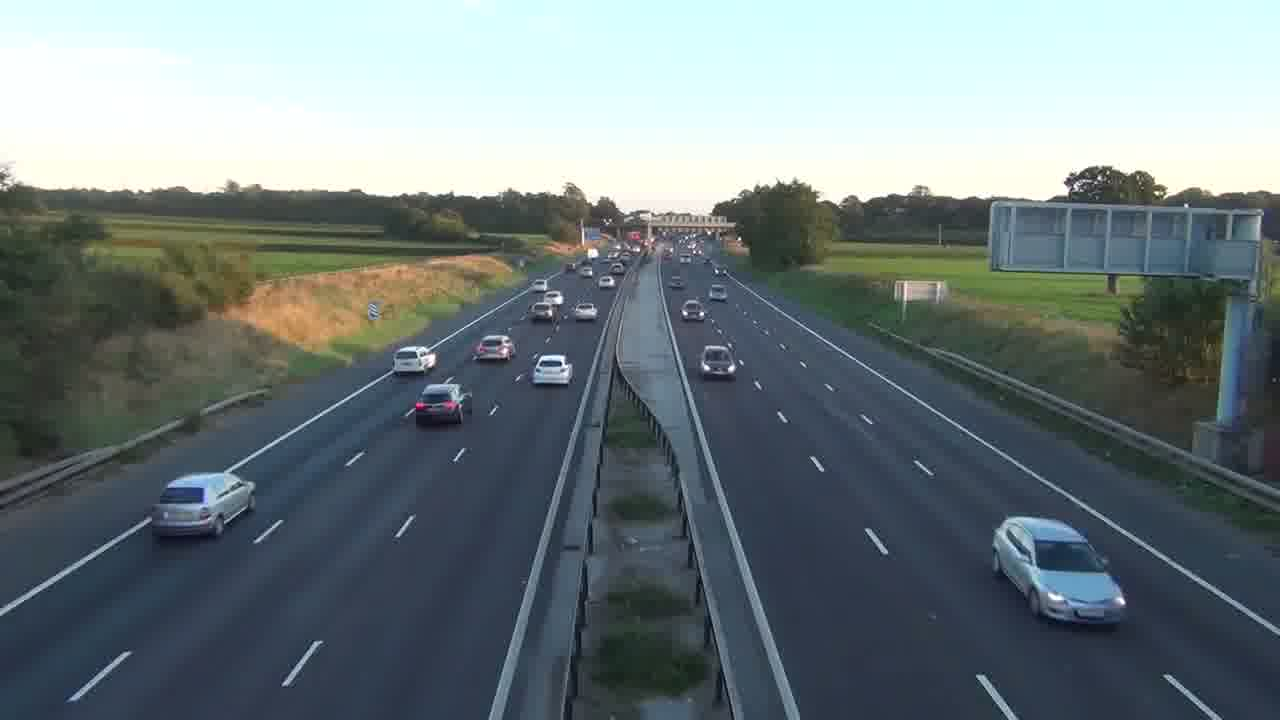car: (991, 515, 1127, 628), (150, 471, 256, 540), (414, 382, 469, 425), (531, 352, 572, 387), (392, 345, 438, 376), (699, 343, 737, 379), (472, 335, 516, 363)
